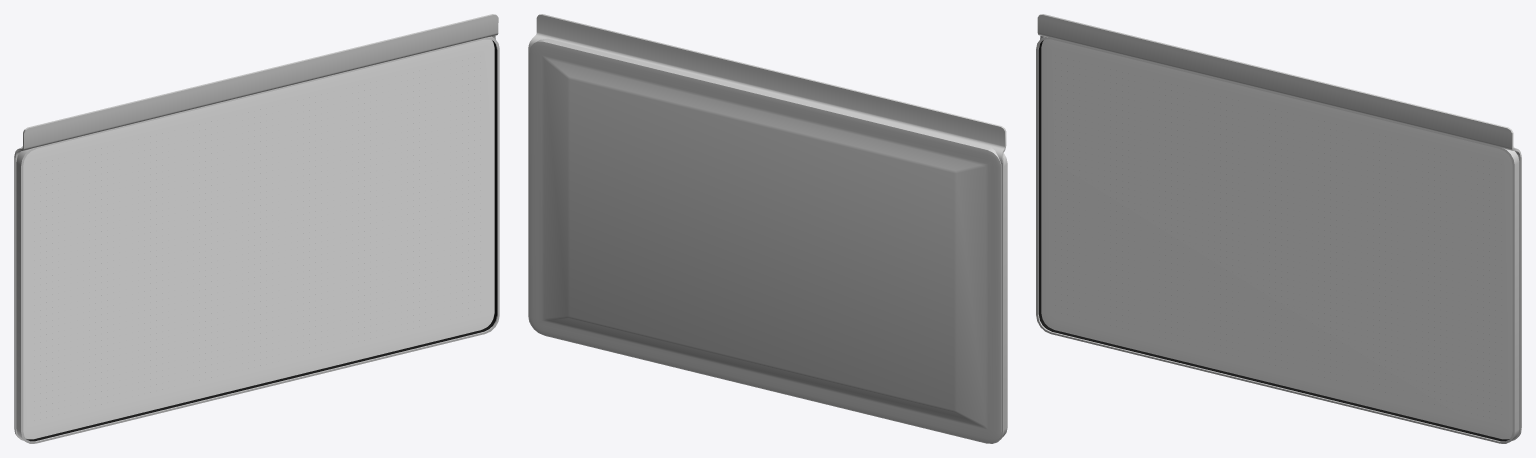
Rendered from smart-board.fbx.
3 views of the same model, side by side, from view 1: azimuth 30°, elevation 25°; view 2: azimuth 150°, elevation 25°; view 3: azimuth 330°, elevation 25° (orthographic).
Parts seen in each view (by area): view 1: Smart-Board; view 2: Smart-Board; view 3: Smart-Board.
Boxes of the visible parts, x1,y1,x2,y2 form: Smart-Board: [14, 14, 499, 443]; Smart-Board: [528, 14, 1007, 443]; Smart-Board: [1036, 14, 1521, 443].
Bounding box in the file's own units: 428 × 272 × 16.02.
3 materials, 1 textured.
